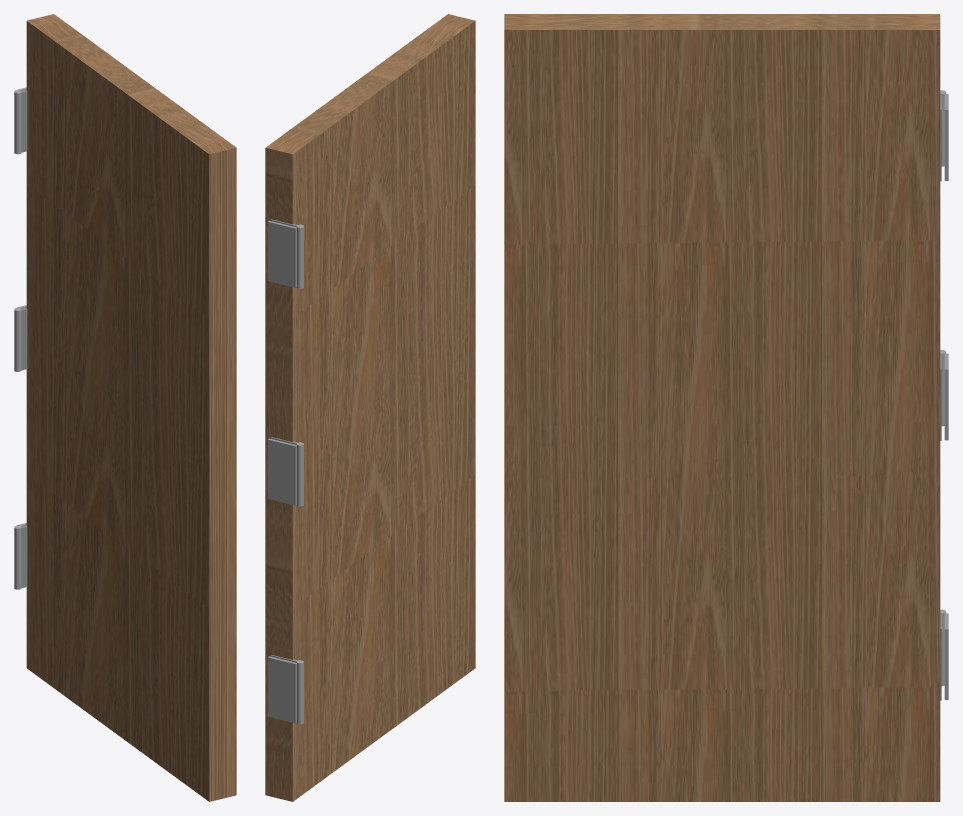
The model's file is Door_Knob_3.fbx.
3 views of the same model, side by side, from view 1: azimuth 30°, elevation 25°; view 2: azimuth 150°, elevation 25°; view 3: azimuth 270°, elevation 25° (orthographic). The views are drawn at different scales.
Parts seen in each view (by area): view 1: Cube, Cylinder.011, Cylinder, Cylinder.010, Cube.005, Cube.007, Cube.009; view 2: Cube, Cube.010, Cube.006, Cube.008, Cylinder.010, Cylinder.011, Cylinder; view 3: Cube.
Part boxes in pixels (left/top/right/bottom): Cube: left=26, top=14, right=236, bottom=801; Cylinder.011: left=14, top=525, right=21, bottom=589; Cylinder: left=14, top=90, right=21, bottom=154; Cylinder.010: left=14, top=308, right=21, bottom=371; Cube.005: left=21, top=90, right=27, bottom=152; Cube.007: left=21, top=308, right=27, bottom=370; Cube.009: left=21, top=525, right=27, bottom=587; Cube: left=265, top=14, right=475, bottom=801; Cube.010: left=267, top=656, right=296, bottom=723; Cube.006: left=267, top=220, right=296, bottom=287; Cube.008: left=267, top=438, right=296, bottom=505; Cylinder.010: left=296, top=442, right=303, bottom=506; Cylinder.011: left=296, top=660, right=303, bottom=724; Cylinder: left=296, top=224, right=303, bottom=288; Cube: left=504, top=14, right=940, bottom=801.
Size of the model in its own units: 13.72 by 220 by 114.
Materials: 4 (1 with a texture image).
